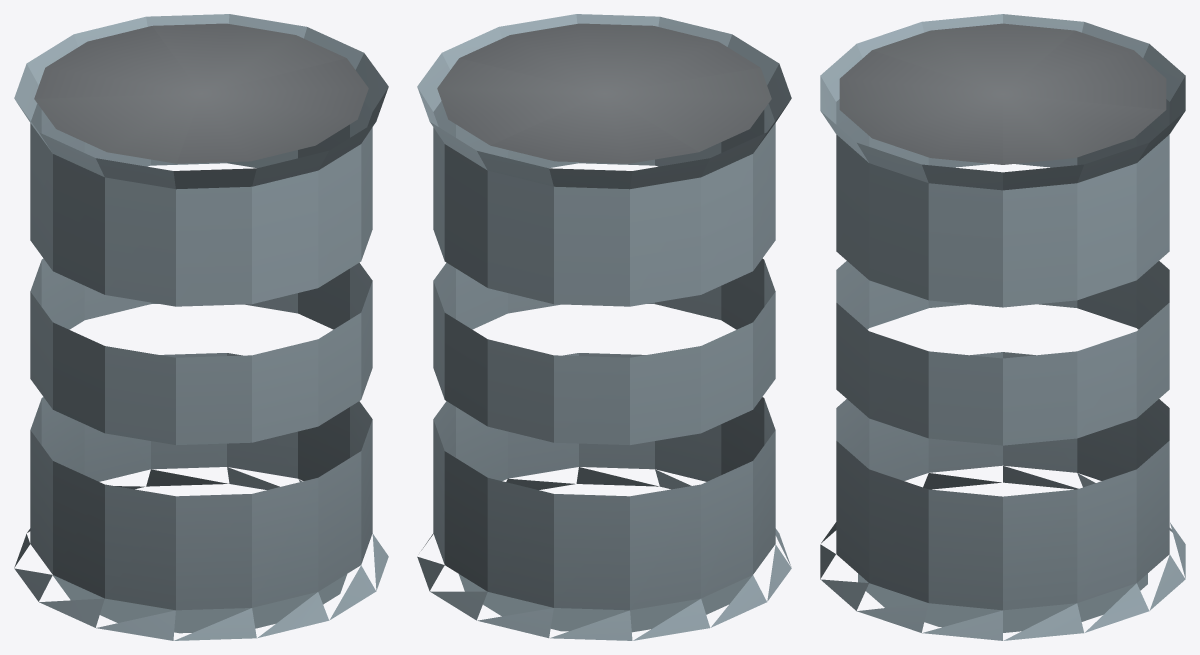
File: drum.lod.glb
3 renders of one model, left to right at view 1: azimuth 30°, elevation 25°; view 2: azimuth 150°, elevation 25°; view 3: azimuth 270°, elevation 25°, orthographic.
Parts seen in each view (by area): view 1: drum.001; view 2: drum.001; view 3: drum.001.
Boxes of the visible parts, <box> form: drum.001: <box>14,14,388,640</box>; drum.001: <box>417,14,791,640</box>; drum.001: <box>820,14,1185,640</box>.
Size of the model in its own units: 0.6 by 0.843 by 0.585.
